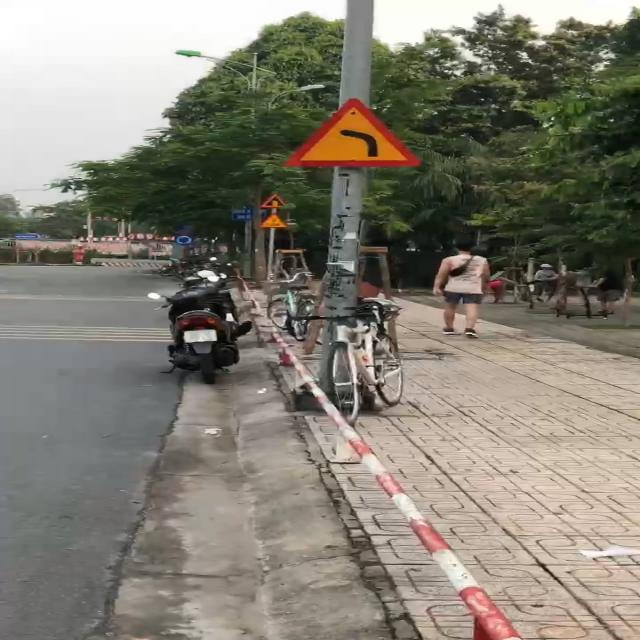Bien bao cho ngoat nguy hiem: (274, 90, 433, 169)
